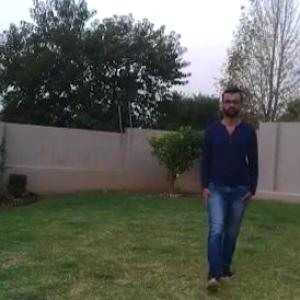follow: (196, 90, 255, 274)
